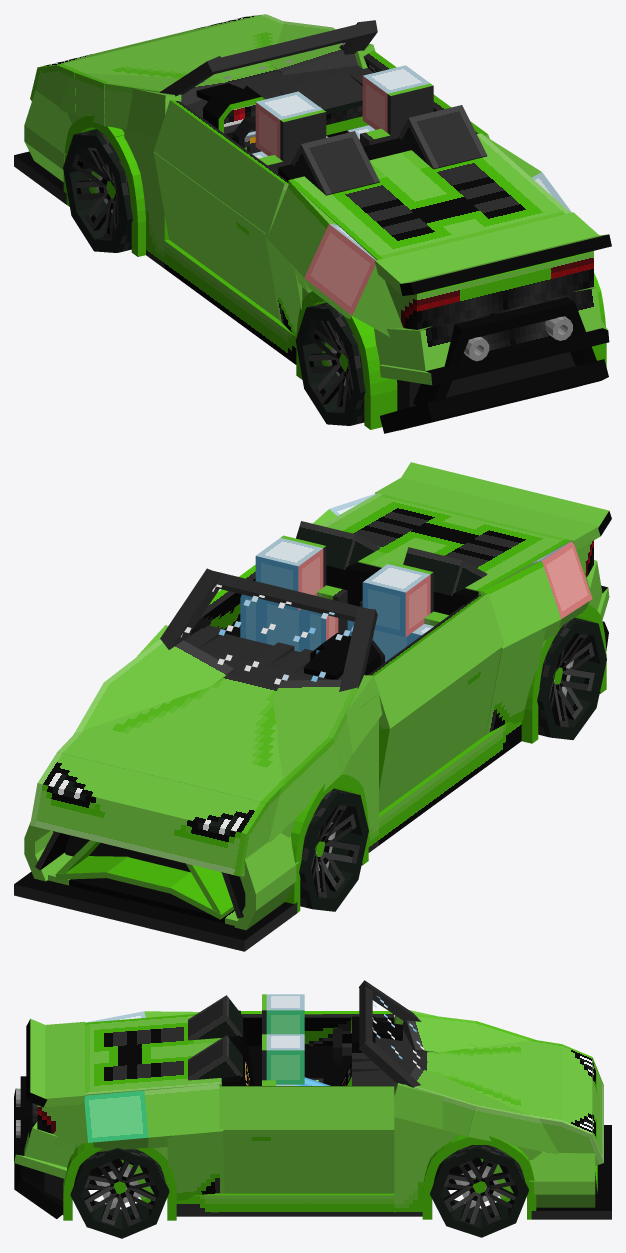
3 views of the same model, one above another, from view 1: azimuth 30°, elevation 25°; view 2: azimuth 150°, elevation 25°; view 3: azimuth 270°, elevation 25° (orthographic). The views are drawn at different scales.
Parts seen in each view (by area): view 1: ec6c2fbf-12bf-62b1-f677-6308c5db54e6, 4a7dd926-aa2b-e0f5-4b39-e2f9a80a08fa, 8e124915-34d1-d26d-0870-57e9af31615b, 3b80ec0a-675a-cdee-f951-60b5bd267b0b, a835ee86-8ade-e1ae-bfda-384e5bdaf728, 5f9d1aab-17a0-58c6-5796-d54b1f786923, ad804968-0f78-f4bf-51e3-92826ff5b4e8, 4d371377-0266-2aaa-b5c2-39237986cf03, f2adbadb-53fa-6090-b92b-7153fad7d278, 862d103c-6f02-2f05-5b55-466f0008d0fb, 37afc84c-49db-4657-d3fe-71af53e045ba, a95dd842-34d8-ded5-0228-78724865d08a (+42 smaller); view 2: 3b80ec0a-675a-cdee-f951-60b5bd267b0b, ec6c2fbf-12bf-62b1-f677-6308c5db54e6, 9b3b0030-51cf-d4d9-c2f4-493f1ebee98d, f798af8a-2bba-4e2a-e1a3-882136e61ded, 4a7dd926-aa2b-e0f5-4b39-e2f9a80a08fa, 8e124915-34d1-d26d-0870-57e9af31615b, a529f79e-7d3d-474b-928f-3b18a5b65dd5, 5f9d1aab-17a0-58c6-5796-d54b1f786923, ad804968-0f78-f4bf-51e3-92826ff5b4e8, 2aca82cf-ec9a-1cf9-b0fb-29911821ccad, d105e752-abf0-3ced-f812-bf373f2579ab, 37f716e2-1a31-d9d5-0fd6-97103eb2a3a0 (+35 smaller); view 3: 8cc475d0-8cad-c53a-fbe5-8fdadf8c6038, ec6c2fbf-12bf-62b1-f677-6308c5db54e6, 3b80ec0a-675a-cdee-f951-60b5bd267b0b, 87a3bff4-0cdb-2493-e1f7-405937022dbb, ad804968-0f78-f4bf-51e3-92826ff5b4e8, 74765c1d-6c84-5fde-3f12-671b381f3c95, 8379b95d-b189-29a7-9d91-f5f216a4d824, 02900aa0-8bab-54c5-e912-4339b7fd840e, 5f9d1aab-17a0-58c6-5796-d54b1f786923, f798af8a-2bba-4e2a-e1a3-882136e61ded, a075bd61-6e7e-8485-2d6a-8ec5734c20f2, a291882d-9e08-f92a-b50a-310429f08225 (+53 smaller).
Part boxes in pixels (x1,y1,x2,y2): ec6c2fbf-12bf-62b1-f677-6308c5db54e6: (288, 133, 570, 259); 4a7dd926-aa2b-e0f5-4b39-e2f9a80a08fa: (153, 152, 279, 320); 8e124915-34d1-d26d-0870-57e9af31615b: (153, 100, 288, 234); 3b80ec0a-675a-cdee-f951-60b5bd267b0b: (57, 14, 283, 131); a835ee86-8ade-e1ae-bfda-384e5bdaf728: (417, 252, 593, 329); 5f9d1aab-17a0-58c6-5796-d54b1f786923: (375, 212, 599, 295); ad804968-0f78-f4bf-51e3-92826ff5b4e8: (164, 239, 296, 364); 4d371377-0266-2aaa-b5c2-39237986cf03: (420, 288, 601, 370); f2adbadb-53fa-6090-b92b-7153fad7d278: (400, 359, 608, 430); 862d103c-6f02-2f05-5b55-466f0008d0fb: (304, 224, 376, 315); 37afc84c-49db-4657-d3fe-71af53e045ba: (398, 105, 487, 169); a95dd842-34d8-ded5-0228-78724865d08a: (290, 131, 379, 195); 3b80ec0a-675a-cdee-f951-60b5bd267b0b: (57, 675, 283, 836); ec6c2fbf-12bf-62b1-f677-6308c5db54e6: (321, 493, 570, 595); 9b3b0030-51cf-d4d9-c2f4-493f1ebee98d: (30, 783, 260, 876); f798af8a-2bba-4e2a-e1a3-882136e61ded: (38, 752, 269, 872); 4a7dd926-aa2b-e0f5-4b39-e2f9a80a08fa: (379, 646, 502, 812); 8e124915-34d1-d26d-0870-57e9af31615b: (368, 593, 504, 729); a529f79e-7d3d-474b-928f-3b18a5b65dd5: (14, 872, 297, 951); 5f9d1aab-17a0-58c6-5796-d54b1f786923: (375, 477, 600, 550); ad804968-0f78-f4bf-51e3-92826ff5b4e8: (379, 721, 521, 845); 2aca82cf-ec9a-1cf9-b0fb-29911821ccad: (104, 639, 234, 704); d105e752-abf0-3ced-f812-bf373f2579ab: (272, 679, 361, 772); 37f716e2-1a31-d9d5-0fd6-97103eb2a3a0: (483, 561, 561, 648); 8cc475d0-8cad-c53a-fbe5-8fdadf8c6038: (221, 1129, 394, 1193); ec6c2fbf-12bf-62b1-f677-6308c5db54e6: (85, 1014, 221, 1095); 3b80ec0a-675a-cdee-f951-60b5bd267b0b: (422, 1040, 562, 1149); 87a3bff4-0cdb-2493-e1f7-405937022dbb: (219, 1086, 394, 1128); ad804968-0f78-f4bf-51e3-92826ff5b4e8: (176, 1193, 394, 1216); 74765c1d-6c84-5fde-3f12-671b381f3c95: (144, 1084, 223, 1137); 8379b95d-b189-29a7-9d91-f5f216a4d824: (394, 1030, 422, 1216); 02900aa0-8bab-54c5-e912-4339b7fd840e: (167, 1131, 224, 1200); 5f9d1aab-17a0-58c6-5796-d54b1f786923: (44, 1021, 85, 1107); f798af8a-2bba-4e2a-e1a3-882136e61ded: (547, 1044, 592, 1152); a075bd61-6e7e-8485-2d6a-8ec5734c20f2: (84, 1090, 148, 1142); a291882d-9e08-f92a-b50a-310429f08225: (467, 1090, 534, 1148).
Size of the model in its own units: 47.98 by 42.28 by 126.
1 material, 1 textured.
